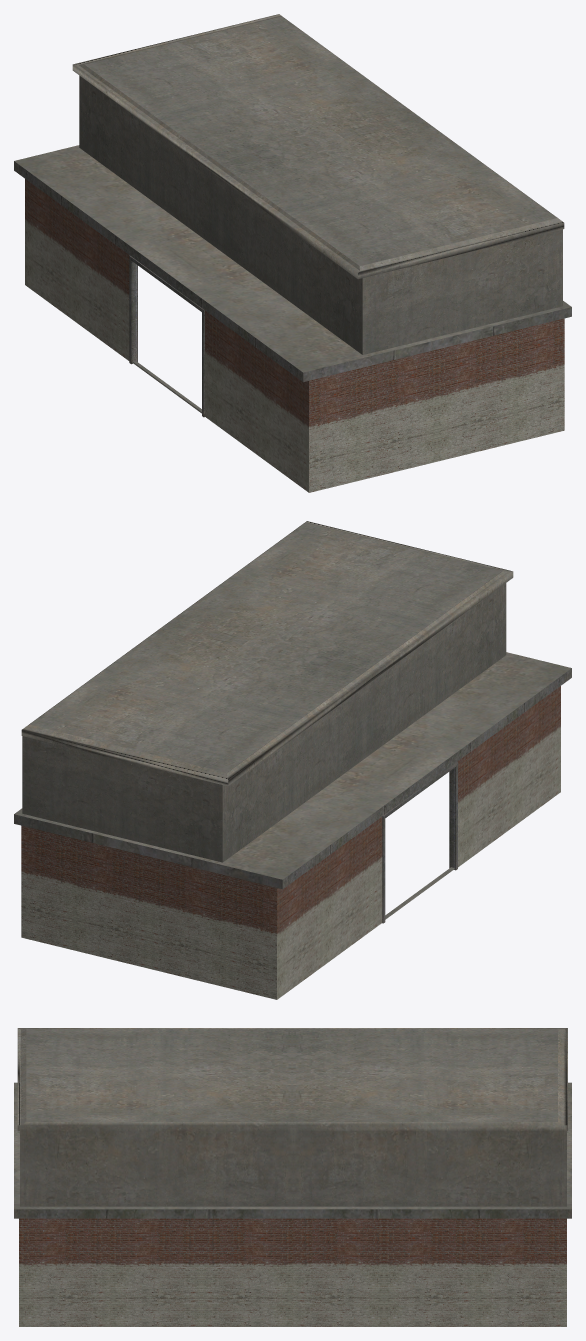
File: Building_HeiygcFz01_2048.glb
3 views of the same model, one above another, from view 1: azimuth 30°, elevation 25°; view 2: azimuth 150°, elevation 25°; view 3: azimuth 270°, elevation 25° (orthographic). The views are drawn at different scales.
Visible parts, largest first — view 1: xiutz_heiygc_fz_01; view 2: xiutz_heiygc_fz_01; view 3: xiutz_heiygc_fz_01.
Part boxes in pixels (x1,y1,x2,y2): xiutz_heiygc_fz_01: (14,14,571,492); xiutz_heiygc_fz_01: (14,521,571,999); xiutz_heiygc_fz_01: (14,1028,571,1326).
Size of the model in its own units: 9.82 by 7.37 by 18.3.
Materials: 1 (1 with a texture image).
